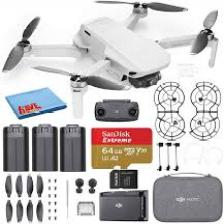drone: (0, 0, 224, 118)
